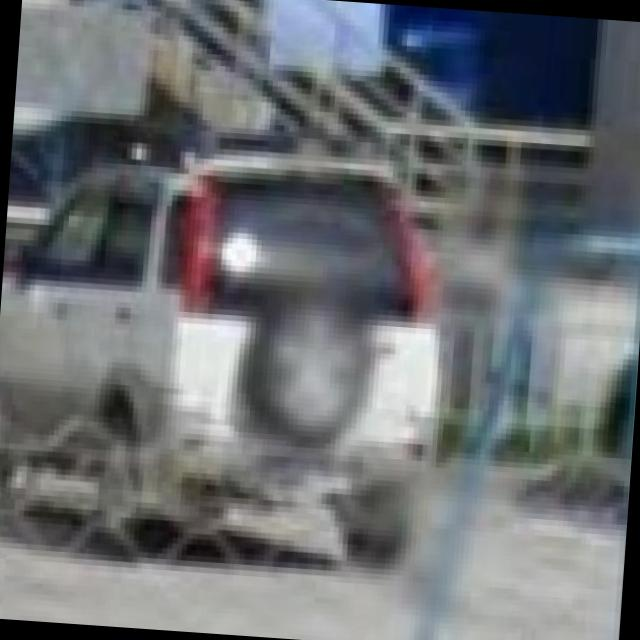car: (0, 130, 455, 583)
